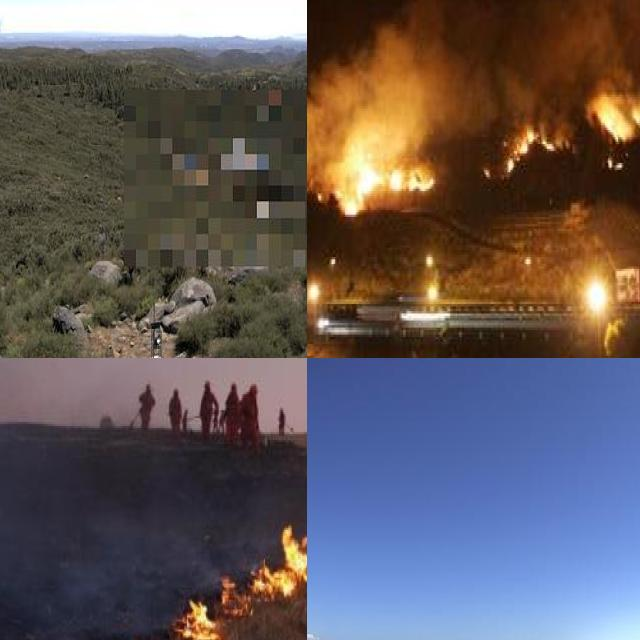fire: (97, 511, 307, 640), (331, 139, 437, 215), (583, 82, 640, 139), (501, 125, 567, 170)
smoke: (307, 0, 640, 165), (0, 13, 4, 37)
